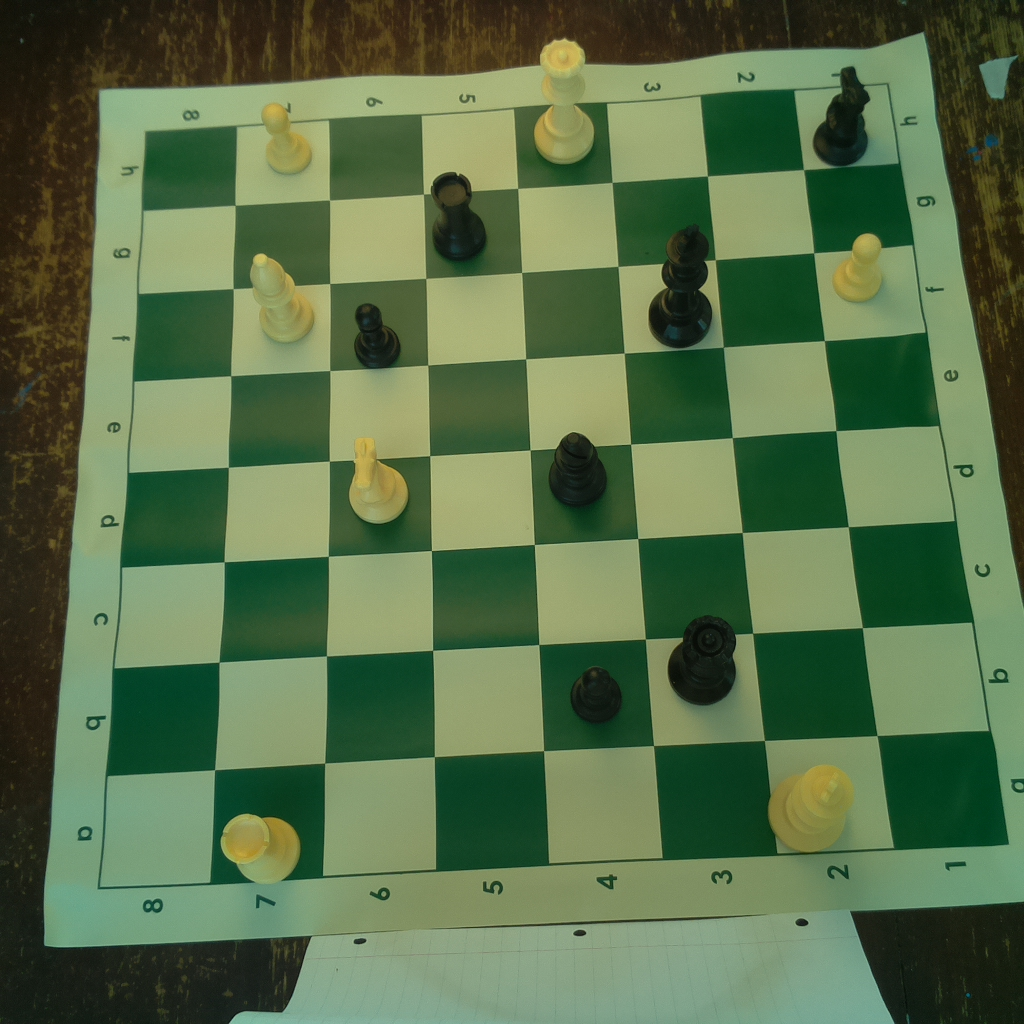black_bishop: (546, 427, 611, 512)
black_king: (645, 218, 715, 349)
black_knight: (806, 61, 875, 171)
black_pawn: (349, 301, 407, 374), (564, 661, 629, 726)
black_queen: (664, 612, 741, 709)
black_rook: (424, 167, 490, 264)
file_a: (99, 732, 1008, 887)
file_b: (107, 622, 992, 779)
file_c: (114, 521, 973, 667)
file_d: (121, 426, 957, 566)
file_e: (127, 332, 940, 474)
file_f: (134, 245, 928, 380)
file_g: (137, 166, 916, 293)
file_h: (142, 84, 901, 210)
outline: (102, 84, 1012, 887)
rank_1: (796, 84, 1008, 851)
rank_2: (701, 88, 897, 856)
rank_3: (606, 96, 779, 860)
rank_4: (514, 99, 666, 866)
rank_5: (421, 108, 550, 871)
rank_6: (320, 114, 438, 871)
rank_7: (212, 119, 329, 880)
rank_8: (101, 128, 237, 891)
white_bishop: (242, 252, 319, 343)
white_king: (764, 758, 858, 856)
white_knight: (342, 436, 414, 531)
white_pawn: (825, 226, 892, 305), (257, 100, 316, 179)
white_queen: (528, 32, 596, 166)
white_rook: (214, 800, 306, 883)
